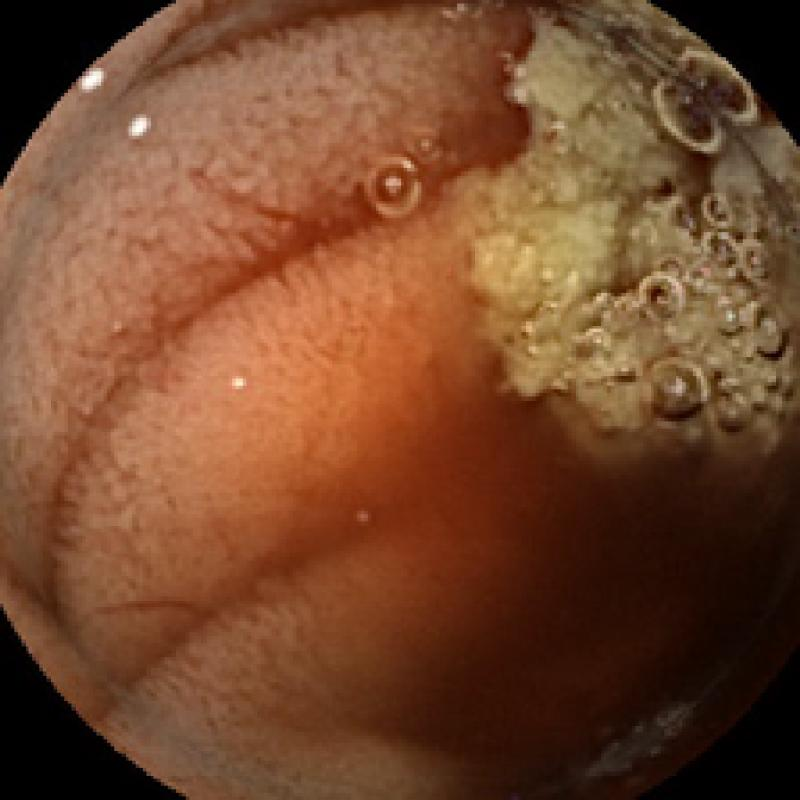bleeding: (585, 489, 800, 799)
